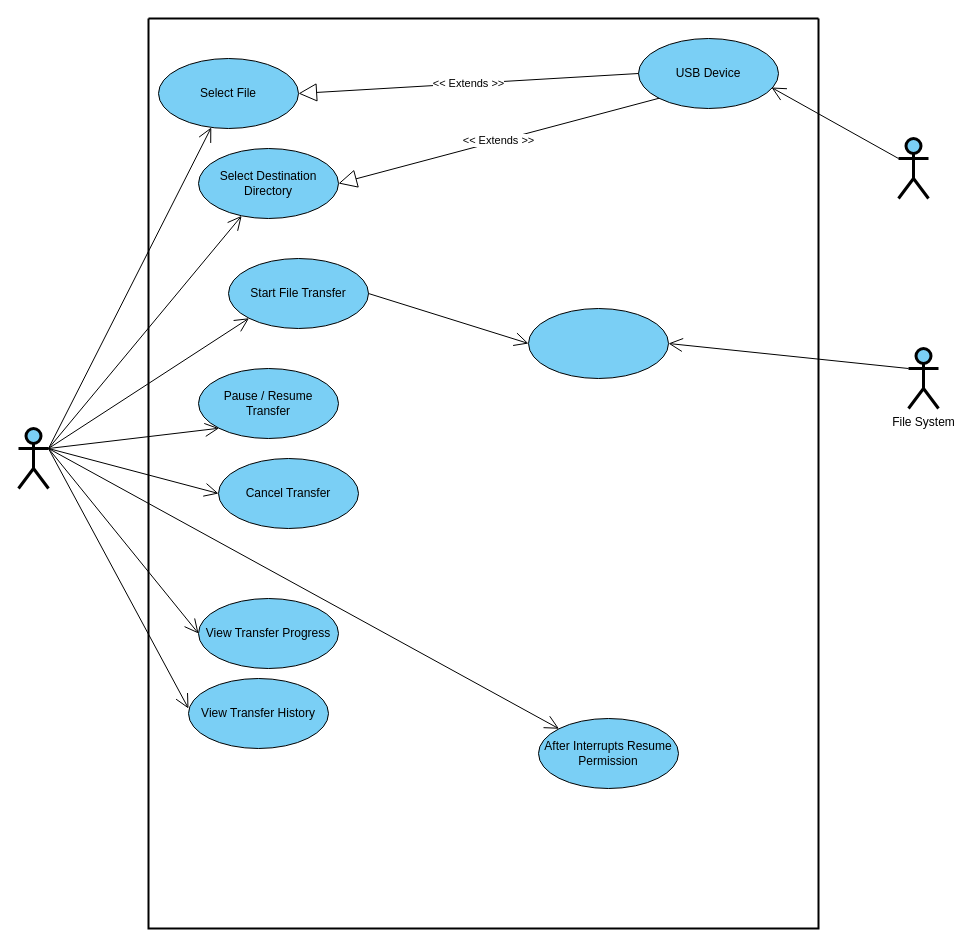
This 972x946 diagram has some shape labels left out. The box of each missing label's shape, as (x1, y1, x2, y2) in pixels:
Generate journaling / log file: (528, 308, 668, 378)
USB Handler: (896, 136, 930, 200)
User: (16, 426, 50, 490)
